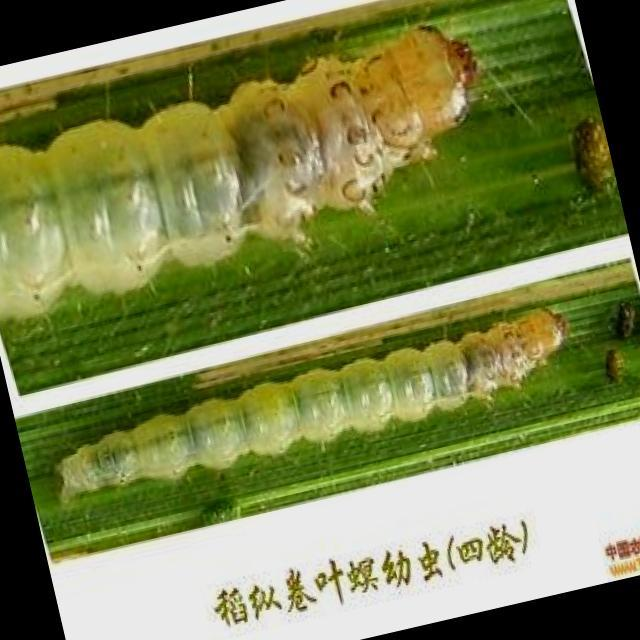leaf folder: (0, 22, 480, 344), (59, 310, 564, 500)
